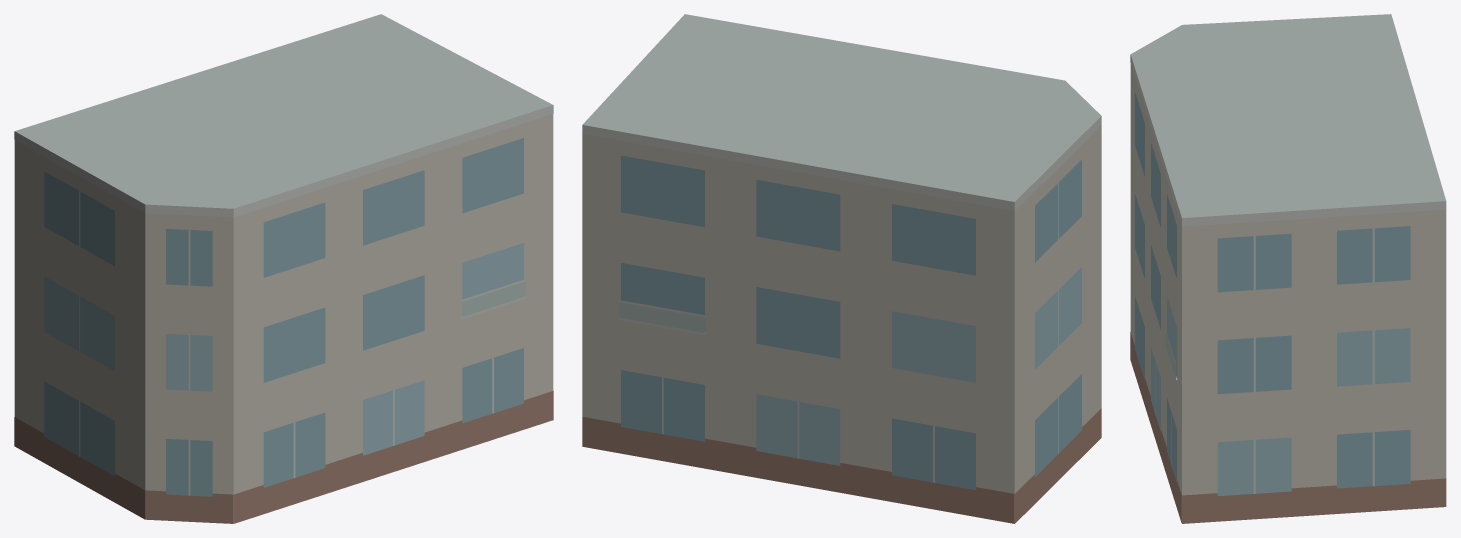
Rendered from survey-upis-32944279.glb.
3 views of the same model, side by side, from view 1: azimuth 30°, elevation 25°; view 2: azimuth 150°, elevation 25°; view 3: azimuth 270°, elevation 25° (orthographic). The views are drawn at different scales.
Parts seen in each view (by area): view 1: survey-upis-32944279.tmp; view 2: survey-upis-32944279.tmp; view 3: survey-upis-32944279.tmp.
Part boxes in pixels (x1,y1,x2,y2): survey-upis-32944279.tmp: (14, 14, 553, 523); survey-upis-32944279.tmp: (582, 14, 1101, 523); survey-upis-32944279.tmp: (1130, 14, 1446, 523).
Size of the model in its own units: 12.75 by 8.9 by 8.34.
